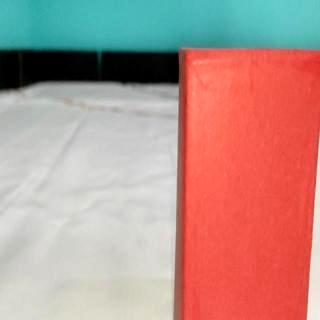redbox: (185, 54, 308, 320)
